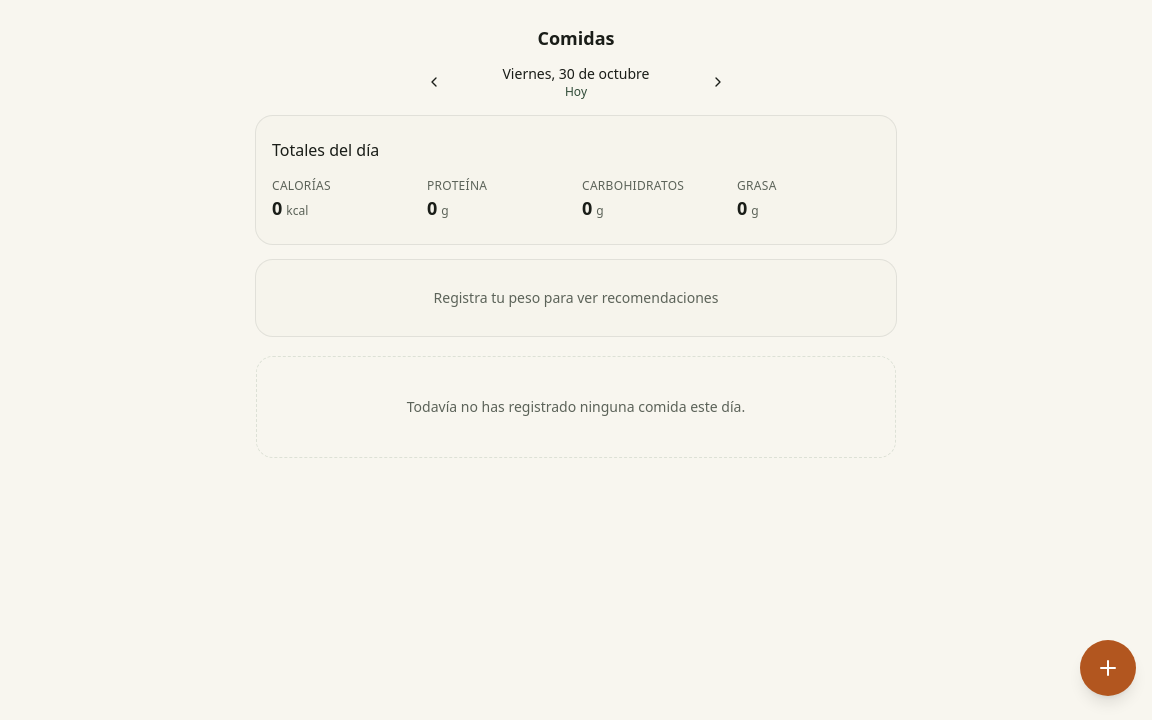
it: Añadir comida: foto con IA › pide una foto o una descripción antes de estimar
Expected: the button "Todavía no has registrado ninguna comida este día." is shown, [256,356,896,458]
Step 1. Click the button named "Añadir comida" → (1108, 668), box [1080,640,1136,696]
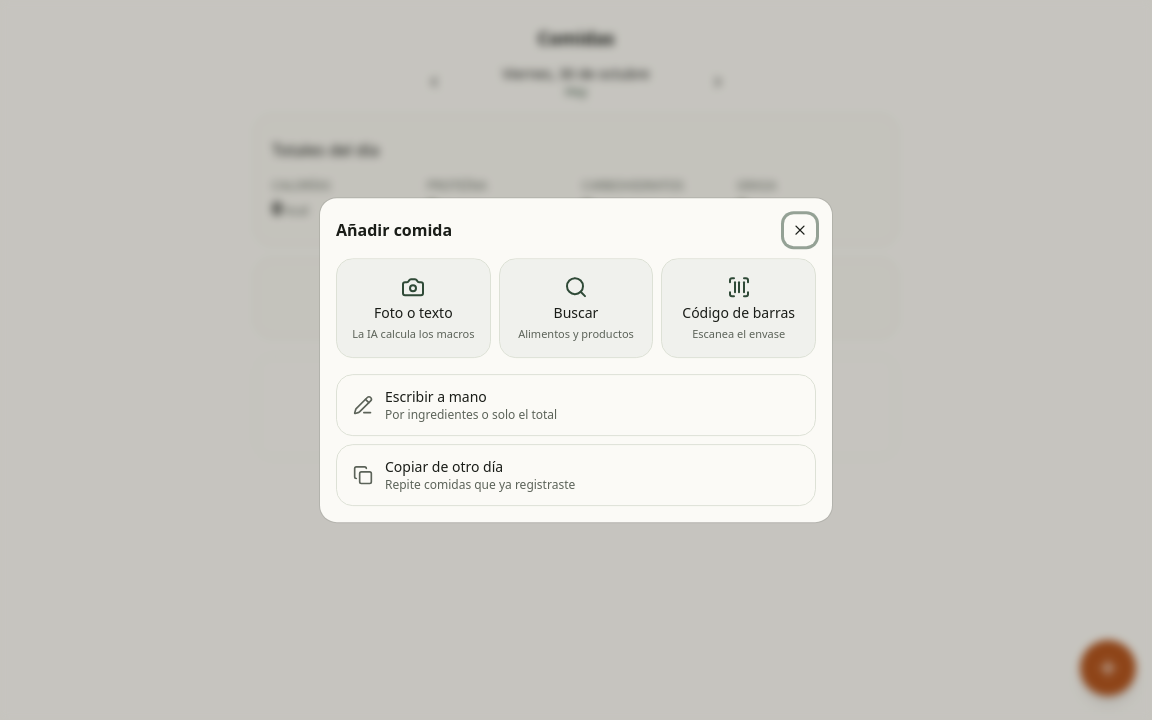
Step 2. Click the button "Foto o texto La IA calcula los macros" → (413, 308), box [336,258,491,358]
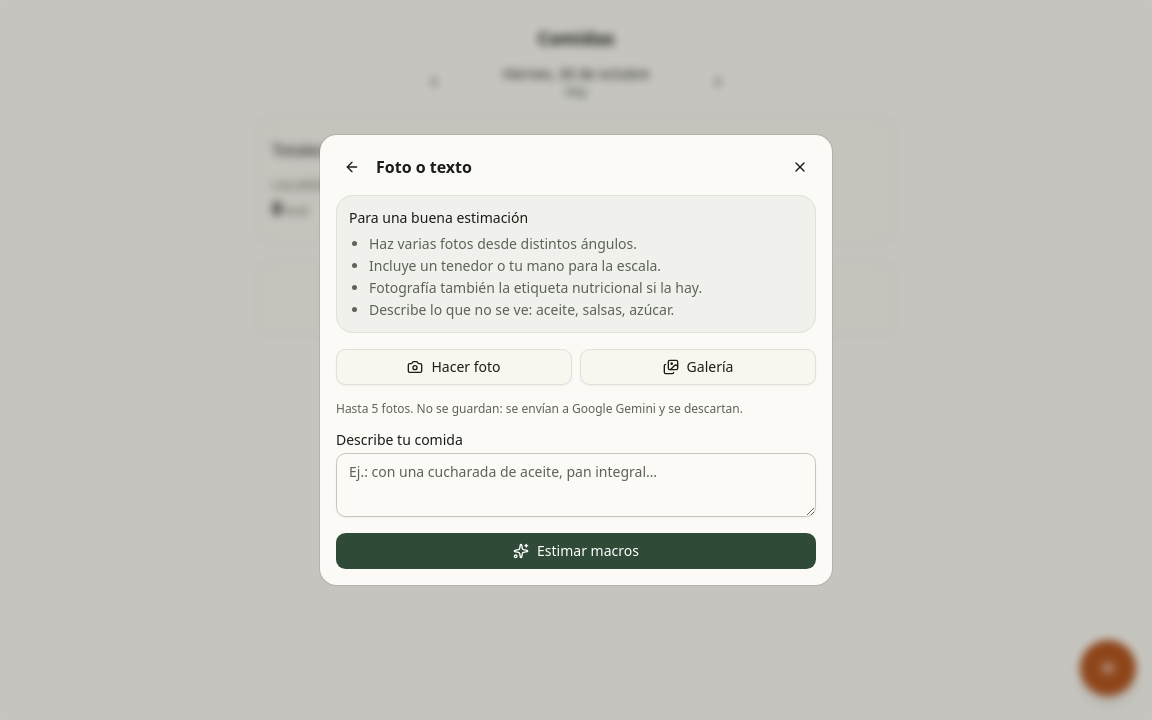
Step 3. Click the button "Estimar macros" → (576, 551), box [336,533,816,569]
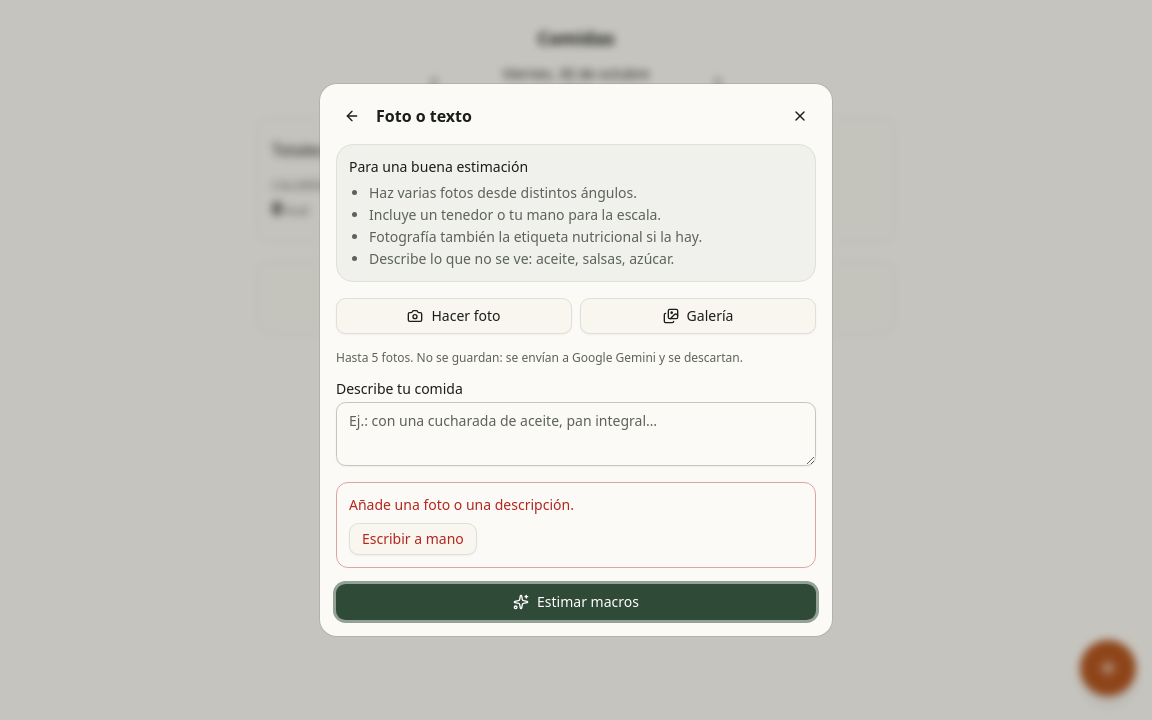
Expected: the message shows "Añade una foto o una descripción.", [349,495,574,514]
